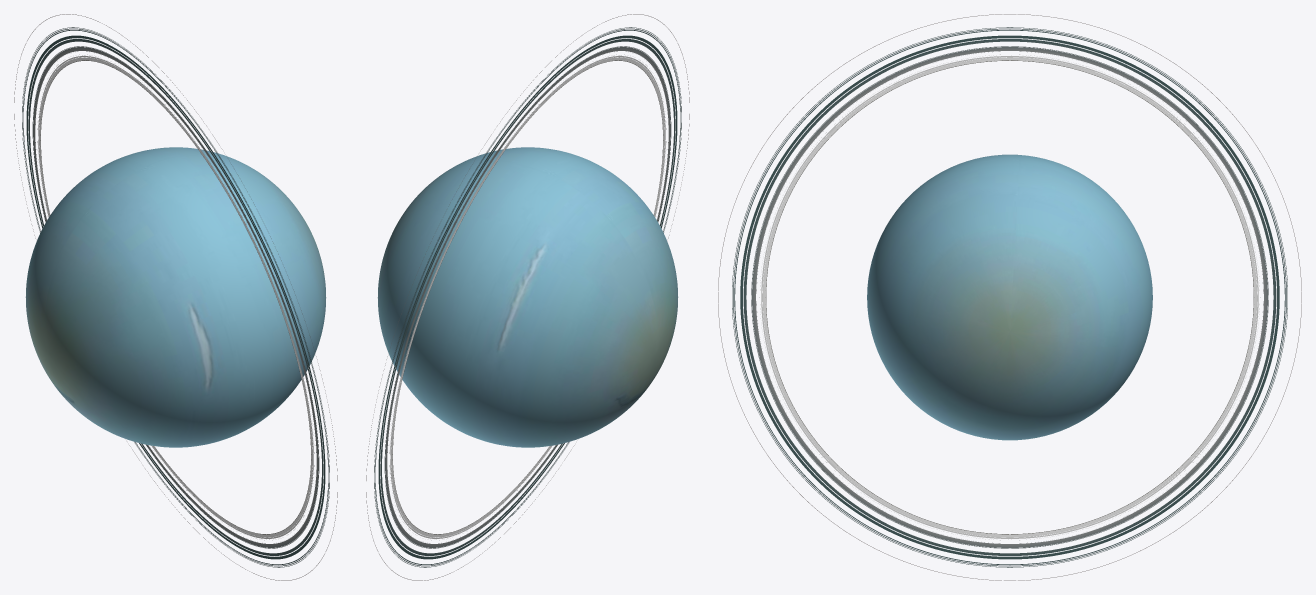
File: Uranus.glb
3 renders of one model, left to right at view 1: azimuth 30°, elevation 25°; view 2: azimuth 150°, elevation 25°; view 3: azimuth 270°, elevation 25°, orthographic. The views are drawn at different scales.
Parts seen in each view (by area): view 1: node_id76, node_id78; view 2: node_id76, node_id78; view 3: node_id76, node_id78.
Boxes of the visible parts, x1,y1,x2,y2 form: node_id76: (25,147,326,447); node_id78: (14,14,337,580); node_id76: (377,147,678,447); node_id78: (366,14,689,580); node_id76: (867,154,1152,440); node_id78: (718,14,1301,580).
Size of the model in its own units: 0.2506 by 0.5023 by 0.512.
2 materials, 2 textured.
